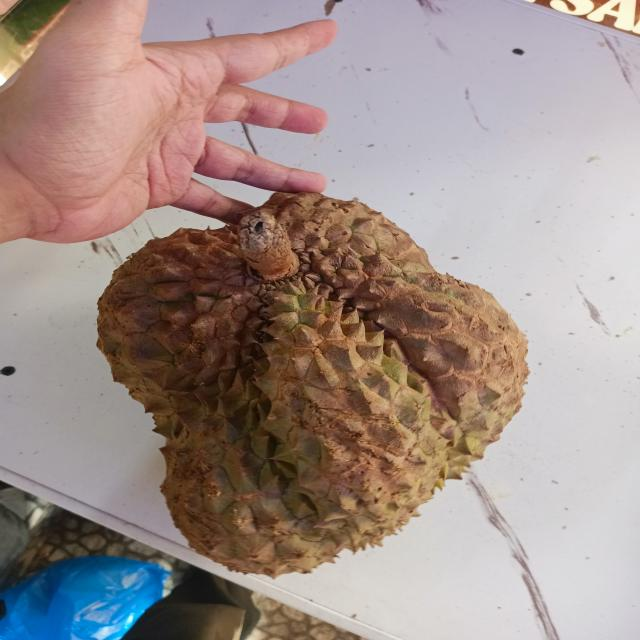mature: (78, 190, 544, 602)
